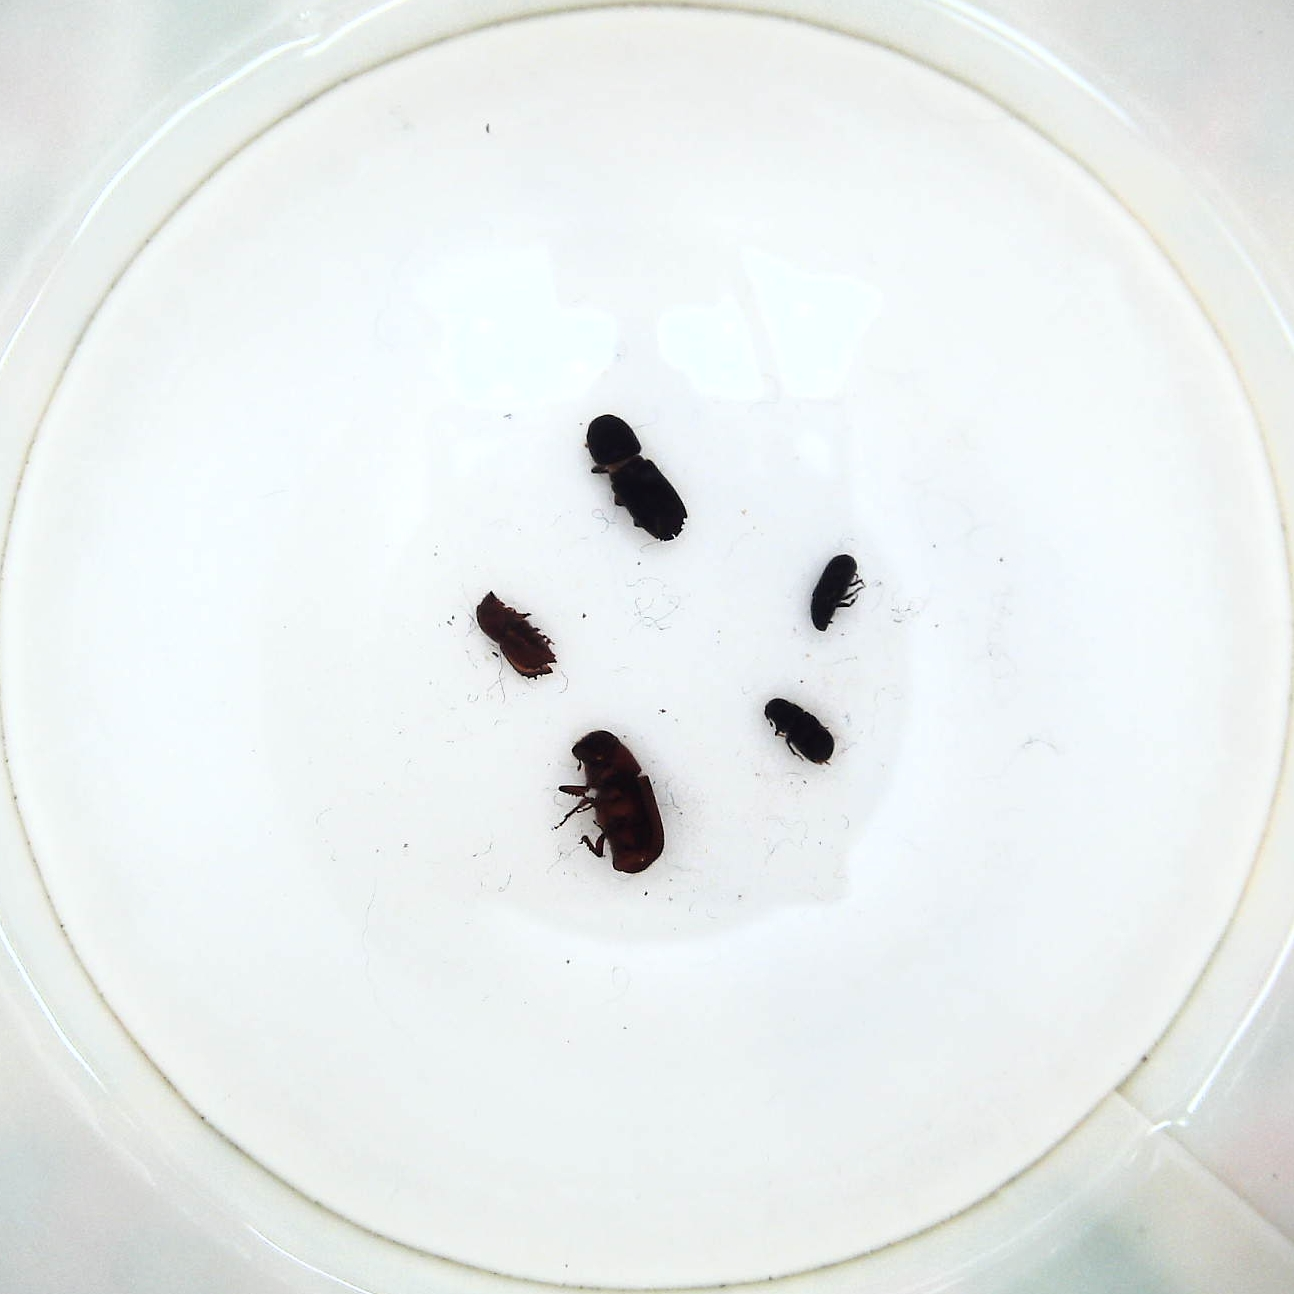Boerner: (583, 414, 693, 544)
Leconte: (551, 734, 664, 878)
armandi: (761, 692, 839, 773), (807, 551, 869, 630)
linnaeus: (465, 587, 559, 678)
